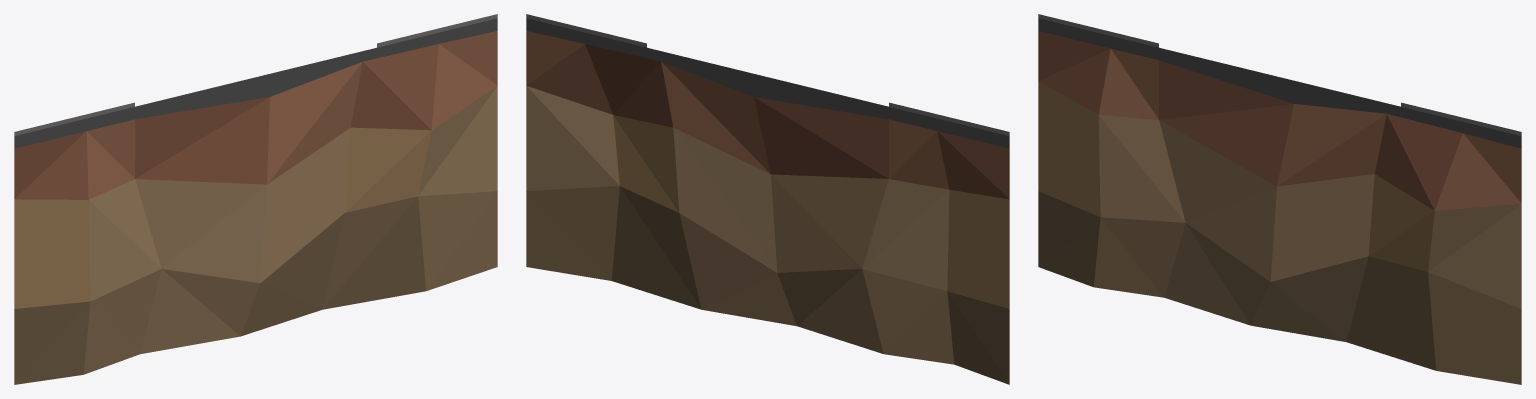
Rendered from Thick_12_Street.fbx.
3 renders of one model, left to right at view 1: azimuth 30°, elevation 25°; view 2: azimuth 150°, elevation 25°; view 3: azimuth 330°, elevation 25°, orthographic.
Parts seen in each view (by area): view 1: Thick_12_Street; view 2: Thick_12_Street; view 3: Thick_12_Street.
Boxes of the visible parts, x1,y1,x2,y2 form: Thick_12_Street: (14, 14, 497, 384); Thick_12_Street: (526, 14, 1009, 384); Thick_12_Street: (1038, 14, 1521, 384).
Size of the model in its own units: 1200 by 600 by 45.
